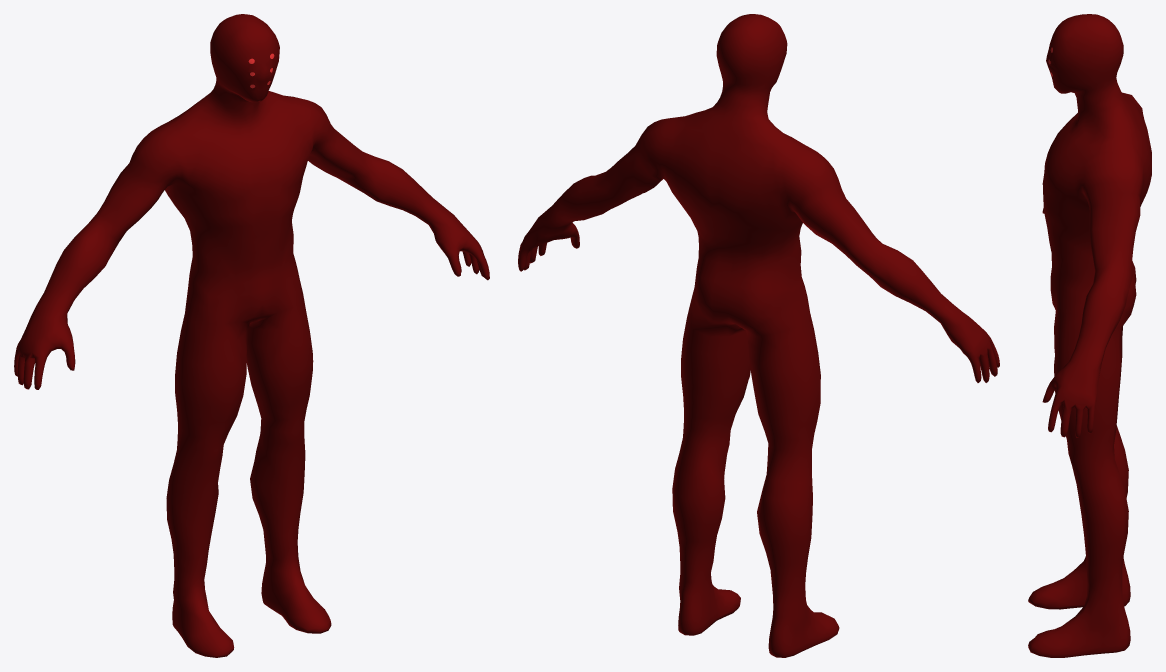
Rendered from celestial.fbx.
3 renders of one model, left to right at view 1: azimuth 30°, elevation 25°; view 2: azimuth 150°, elevation 25°; view 3: azimuth 270°, elevation 25°, orthographic.
Parts seen in each view (by area): view 1: skp2F7_1; view 2: skp2F7_1; view 3: skp2F7_1.
Part boxes in pixels (x1,y1,x2,y2): skp2F7_1: [14, 14, 489, 657]; skp2F7_1: [518, 14, 999, 657]; skp2F7_1: [1028, 14, 1151, 657].
Size of the model in its own units: 15.36 by 19.2 by 3.54.
